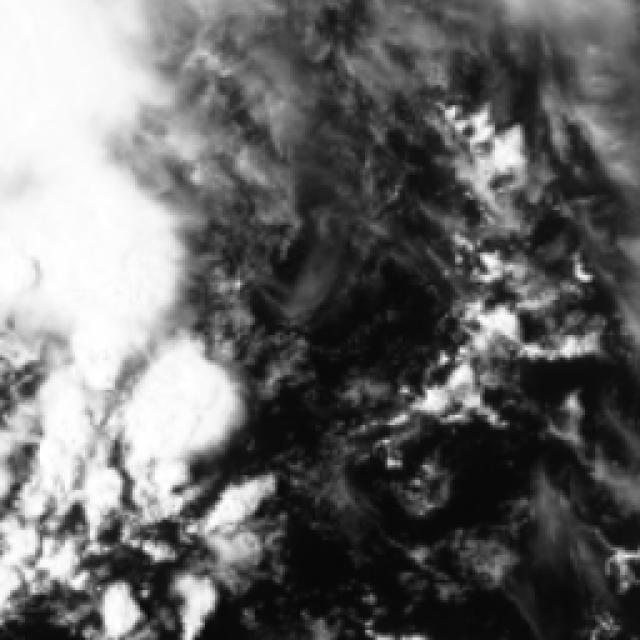CB: (0, 9, 123, 296)
